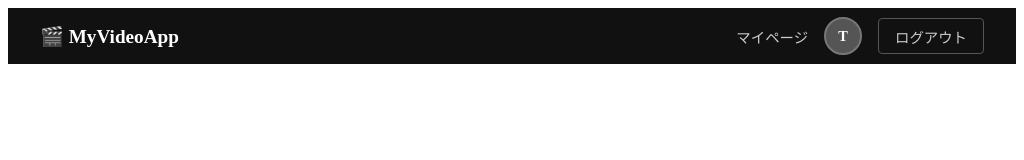
Test: Header › ログアウトするとログイン画面に戻る
The width and height of the screenshot is (1024, 160).
Click the button "ログアウト". click: {"x": 931, "y": 36}
box: [878,18,984,54]
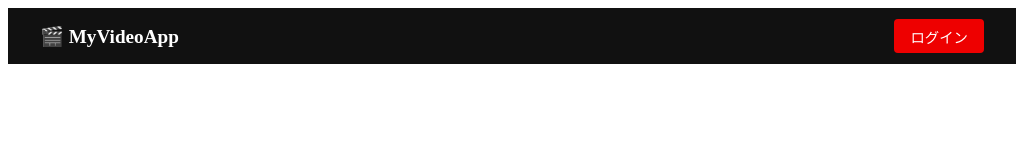
Result: the link "ログイン" is shown at [894,19,984,53]
